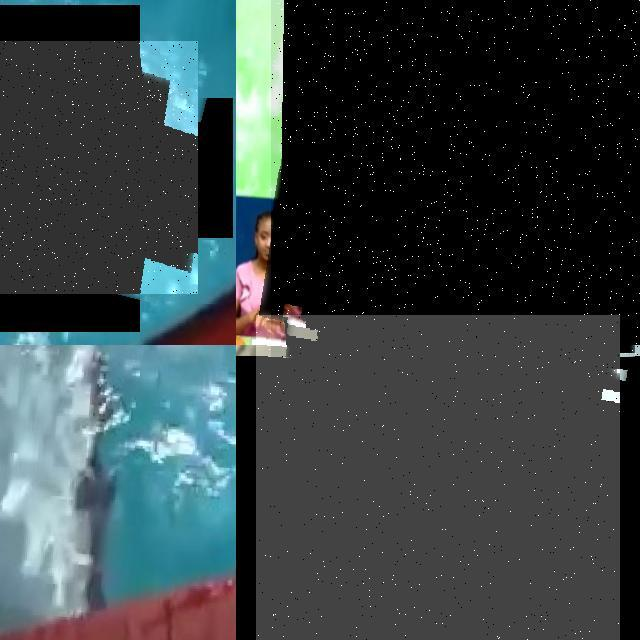3: (0, 41, 198, 294)
6: (271, 0, 640, 357)
drowning: (256, 315, 620, 640)
